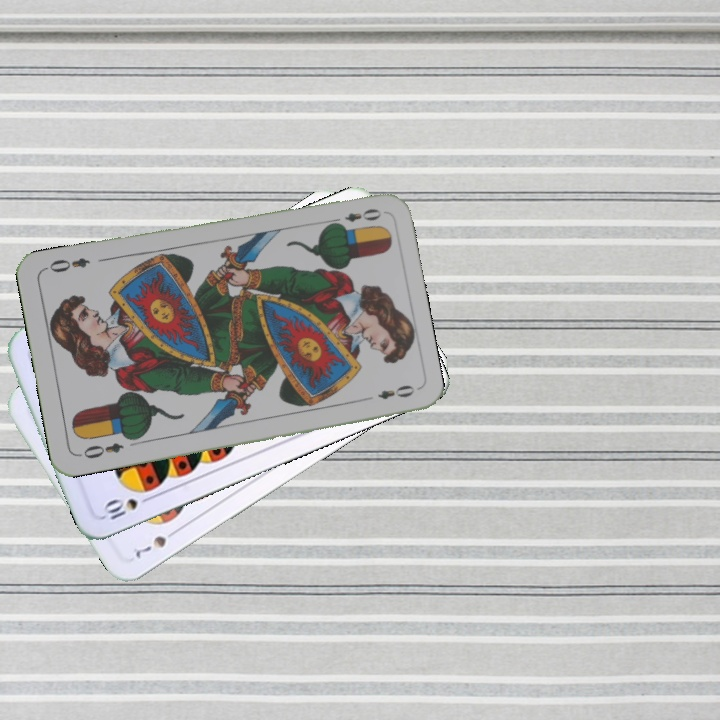EO: (326, 204, 384, 229), (74, 439, 126, 462)
S10: (99, 491, 156, 522)
S7: (131, 525, 181, 561)
